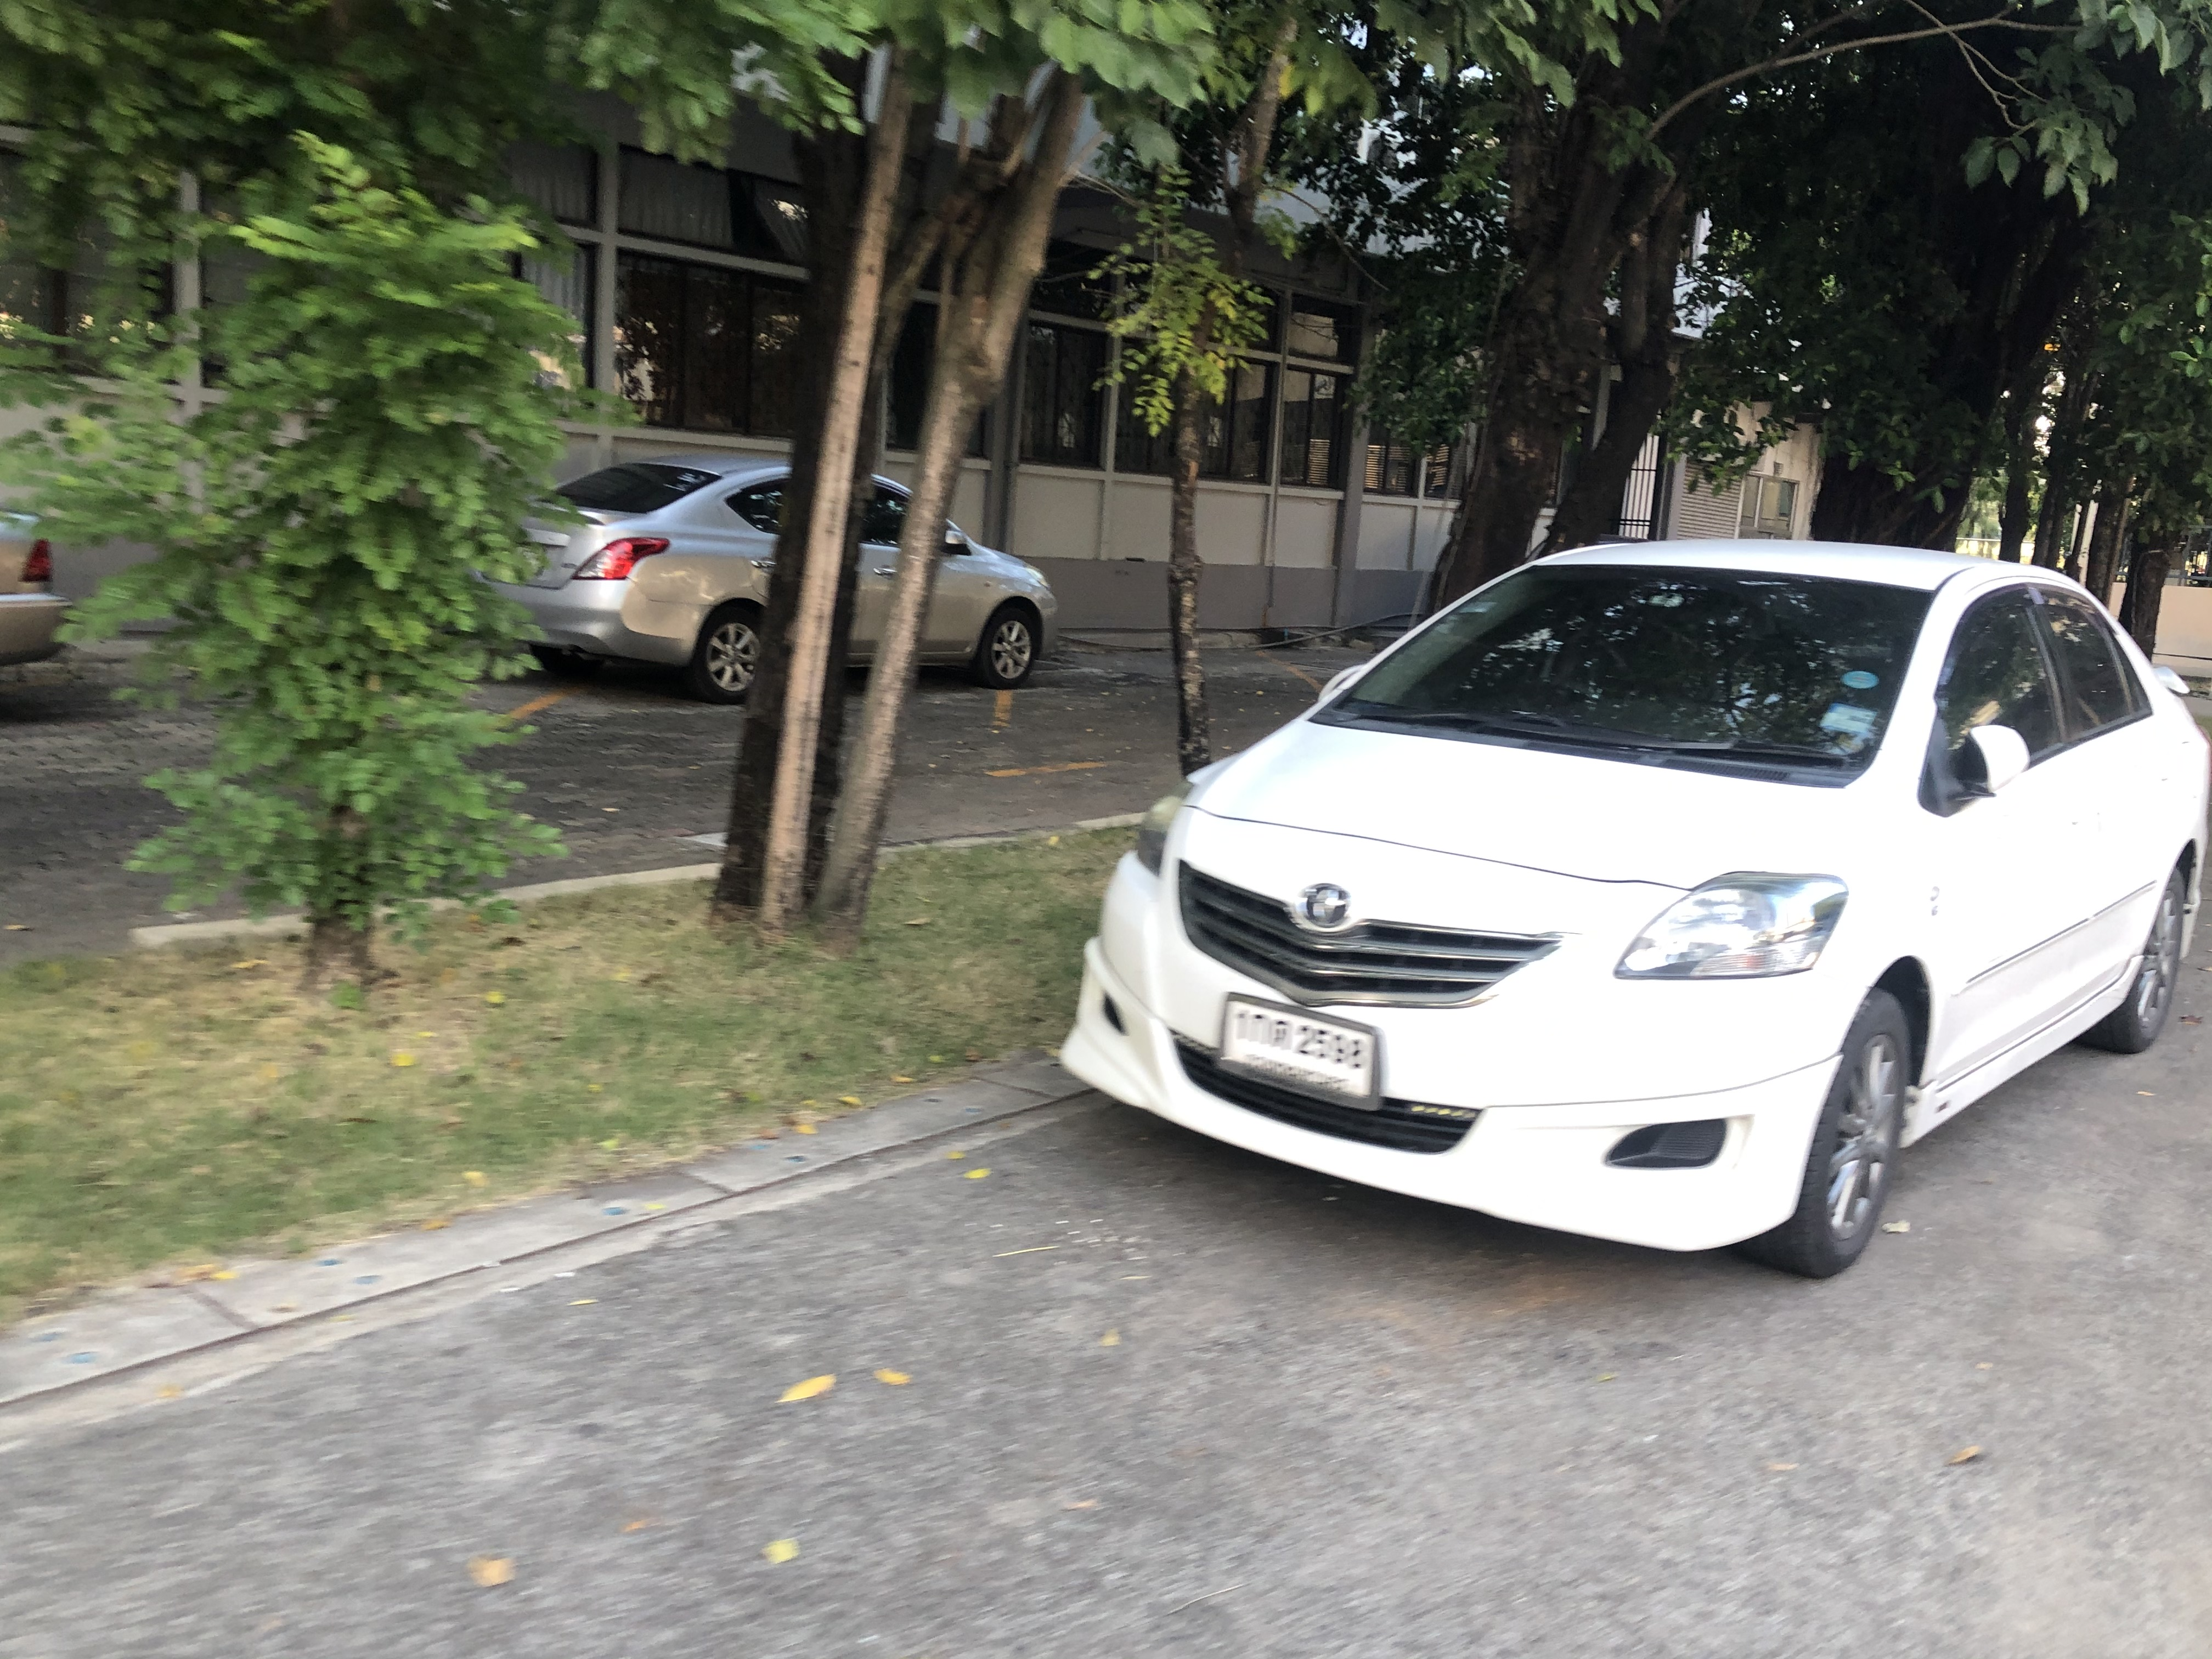in: (1224, 1002, 1374, 1098)
out: (1216, 988, 1388, 1114)
